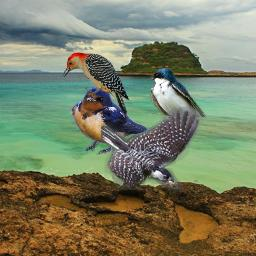Swallow: (69, 86, 158, 155), (149, 67, 206, 125)
Woodpecker: (101, 106, 203, 192), (61, 52, 130, 118)
